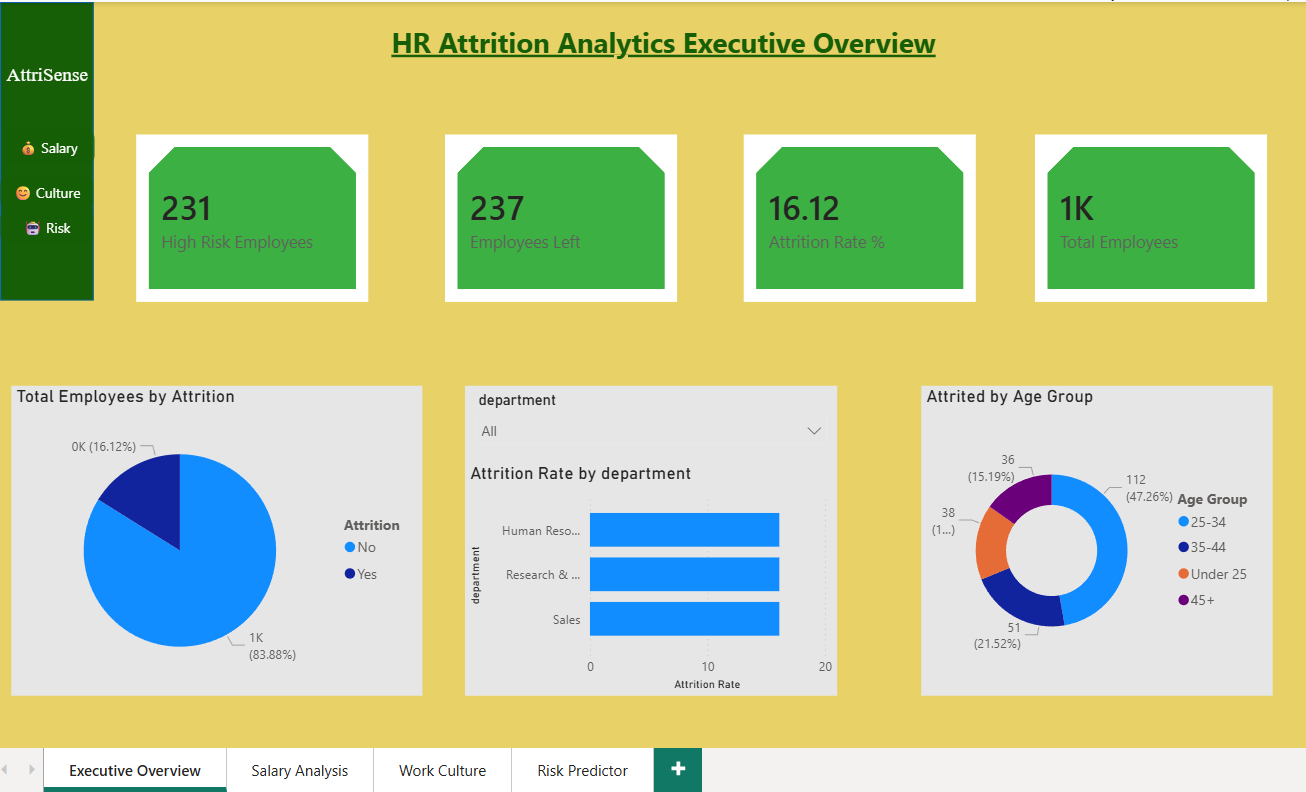

The page's visual inventory and layout, read from the dashboard file:
{"tool":"powerbi","page":{"name":"Executive Overview","canvas":[1280,720],"ordinal":0},"visuals":[{"type":"textbox","box":[372.5,16.2,593.8,47.5],"z":0},{"type":"cardVisual","fields":{"Data":["hr_with_predictions.Total Employees"]},"box":[994.1,123.1,234,171.3],"z":1000},{"type":"cardVisual","title":"Employees Left","fields":{"Data":["hr_with_predictions.Attrited"]},"box":[424.7,123.1,234,171.3],"z":2000},{"type":"cardVisual","fields":{"Data":["hr_with_predictions.High Risk Count"]},"box":[126.7,123.1,234,171.3],"z":3000},{"type":"cardVisual","fields":{"Data":["hr_with_predictions.Attrition Rate"]},"box":[713,123.1,234,171.3],"z":4000},{"type":"clusteredBarChart","fields":{"Category":["job_details.department"],"Y":["hr_with_predictions.Attrition Rate"]},"box":[448.8,444,359.5,225.6],"z":5000},{"type":"pieChart","fields":{"Category":["hr_with_predictions.Attrition"],"Y":["hr_with_predictions.Total Employees"]},"box":[10.9,370.4,396.9,299.2],"z":6000},{"type":"donutChart","fields":{"Category":["hr_with_predictions.Age Group"],"Y":["hr_with_predictions.Attrited"]},"box":[889.1,370.4,339,299.2],"z":7000},{"type":"slicer","fields":{"Values":["job_details.department"]},"box":[448.8,370.4,359.5,73.6],"z":8000},{"type":"shape","box":[0,0,90.5,288.3],"z":9000,"group":"g1"},{"type":"actionButton","box":[0,200.2,90.5,34.2],"z":10000,"group":"g1"},{"type":"actionButton","box":[1.2,123.4,90.5,34.2],"z":11000,"group":"g1"},{"type":"actionButton","box":[0,166,90.5,34.2],"z":12000,"group":"g1"},{"type":"textbox","box":[1.2,54.3,89.3,48.3],"z":13001,"group":"g1"},{"type":"group","id":"g1","title":"Group 1","box":[0,0,91.7,288.3],"z":13002}]}

Visuals, with their boxes on the page's 1280x720 design canvas (x1, y1, x2, y2). These are canvas units, not pixel positions in the 1306x792 screenshot, which may show the page scaled, cropped or inside an application window:
textbox: [372,16,966,64]
cardVisual - hr_with_predictions.Total Employees: [994,123,1228,294]
"Employees Left" cardVisual: [425,123,659,294]
cardVisual - hr_with_predictions.High Risk Count: [127,123,361,294]
cardVisual - hr_with_predictions.Attrition Rate: [713,123,947,294]
clusteredBarChart - job_details.department x hr_with_predictions.Attrition Rate: [449,444,808,670]
pieChart - hr_with_predictions.Attrition x hr_with_predictions.Total Employees: [11,370,408,670]
donutChart - hr_with_predictions.Age Group x hr_with_predictions.Attrited: [889,370,1228,670]
slicer - job_details.department: [449,370,808,444]
shape: [0,0,90,288]
actionButton: [0,200,90,234]
actionButton: [1,123,92,158]
actionButton: [0,166,90,200]
textbox: [1,54,90,103]
"Group 1" group: [0,0,92,288]
